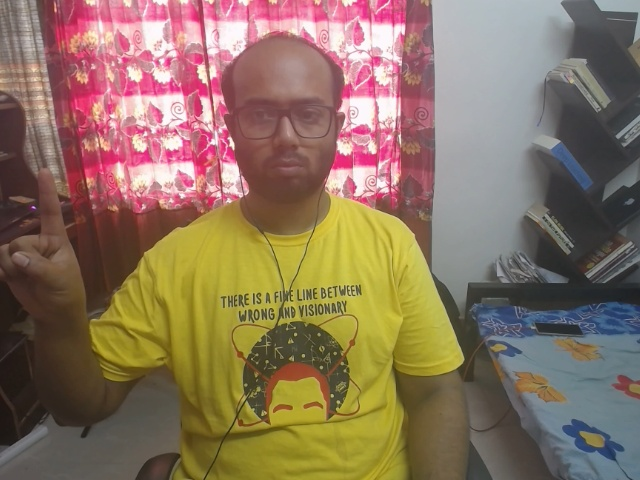one: (1, 159, 138, 353)
